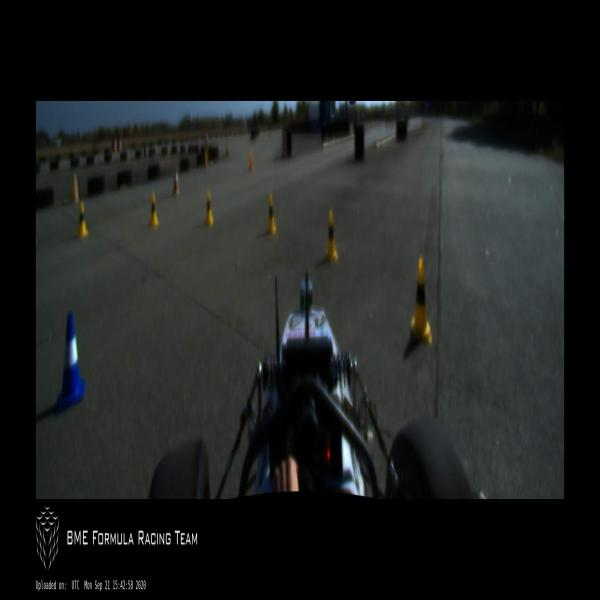blue_cone: (56, 312, 85, 412)
orange_cone: (174, 166, 180, 194)
unknown_cone: (73, 176, 79, 204), (204, 148, 208, 167), (205, 131, 208, 148), (226, 142, 229, 156), (250, 151, 252, 171)
yellow_cone: (410, 258, 432, 343), (325, 210, 338, 262), (77, 200, 88, 238), (266, 196, 276, 236), (149, 193, 158, 226), (205, 190, 213, 225)
